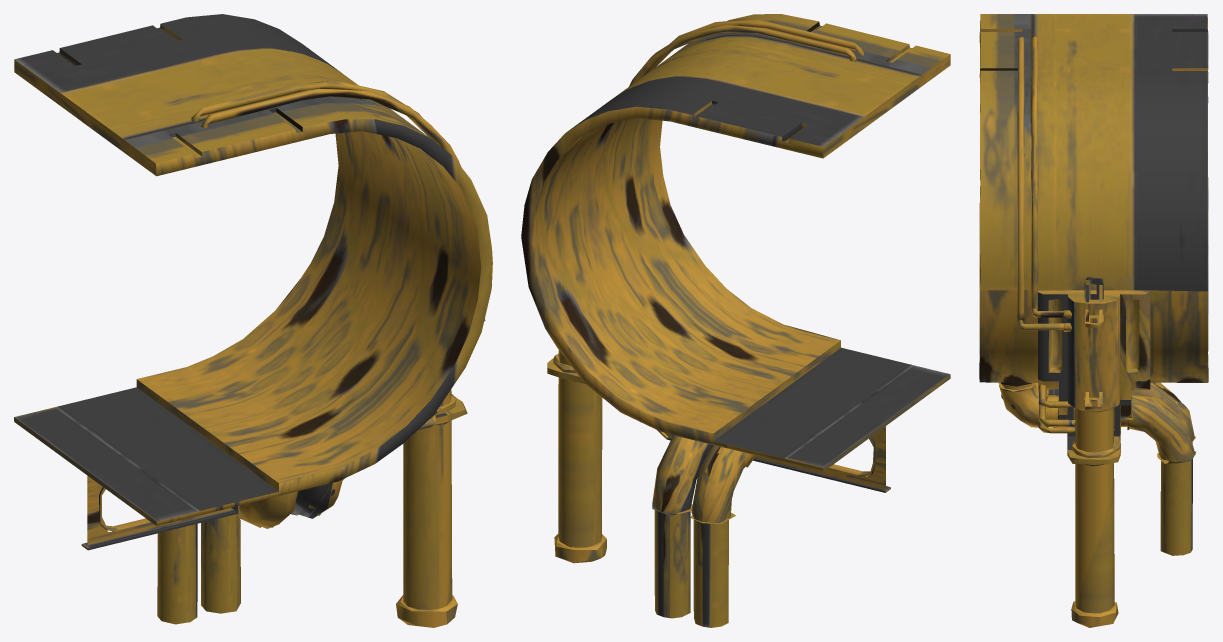
The model's file is SM_Mod02OUT01.gltf.
3 views of the same model, side by side, from view 1: azimuth 30°, elevation 25°; view 2: azimuth 150°, elevation 25°; view 3: azimuth 270°, elevation 25° (orthographic). The views are drawn at different scales.
Parts seen in each view (by area): view 1: SM_Mod02OUT01; view 2: SM_Mod02OUT01; view 3: SM_Mod02OUT01.
Boxes of the visible parts, <box> form: SM_Mod02OUT01: <box>14,14,492,627</box>; SM_Mod02OUT01: <box>521,14,950,627</box>; SM_Mod02OUT01: <box>979,14,1208,627</box>.
Size of the model in its own units: 8.04 by 11.6 by 5.03.
1 material, 1 textured.
